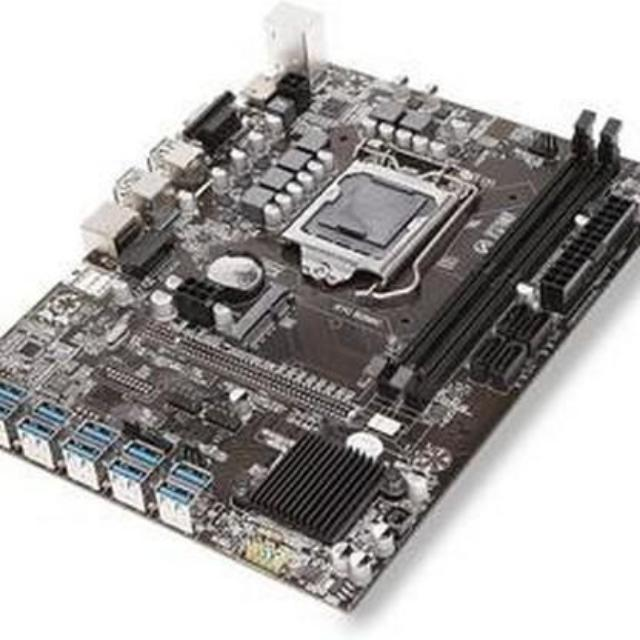Mainboard: (0, 14, 640, 618)
